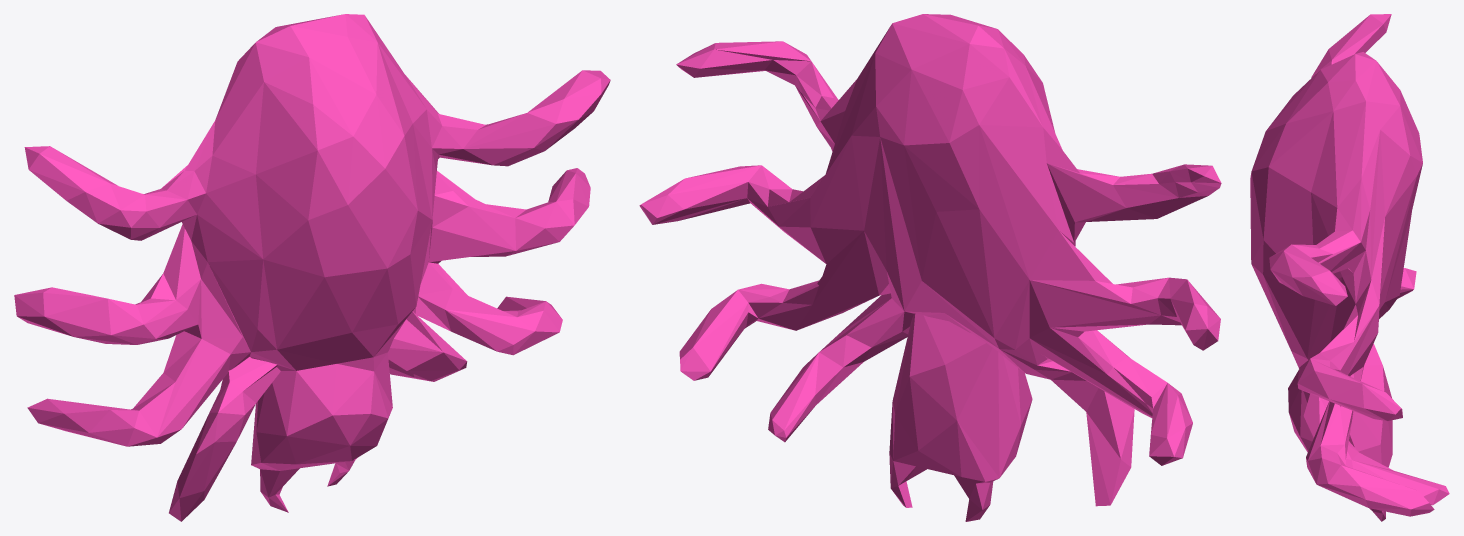
File: aranya2_000015.obj
3 views of the same model, side by side, from view 1: azimuth 30°, elevation 25°; view 2: azimuth 150°, elevation 25°; view 3: azimuth 270°, elevation 25° (orthographic). The views are drawn at different scales.
Parts seen in each view (by area): view 1: Cube; view 2: Cube; view 3: Cube.
Boxes of the visible parts, bbox=[...] form: Cube: bbox=[14, 14, 610, 521]; Cube: bbox=[639, 14, 1221, 521]; Cube: bbox=[1250, 14, 1449, 521].
Bounding box in the file's own units: 20.89 × 17.15 × 6.9.
1 material, 1 textured.
